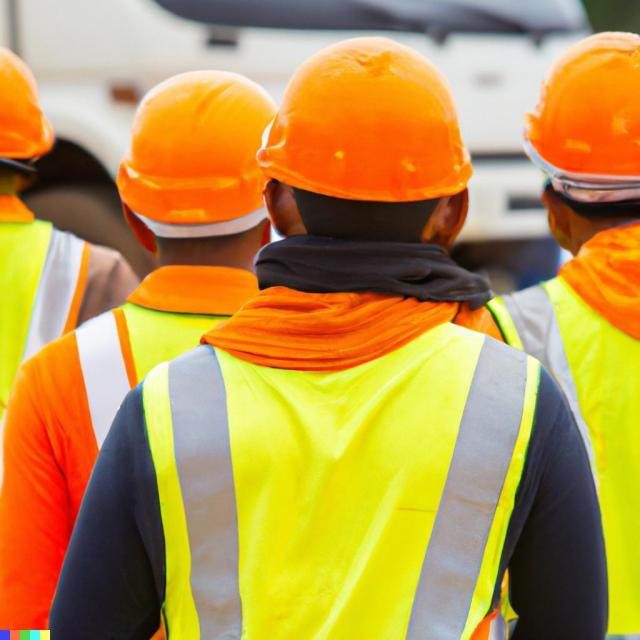Reflective-Jacket: (134, 290, 550, 633), (498, 225, 638, 640), (0, 192, 96, 628)
Safety-Helmet: (254, 34, 477, 204), (112, 65, 282, 235), (519, 30, 640, 182), (0, 33, 56, 169)
